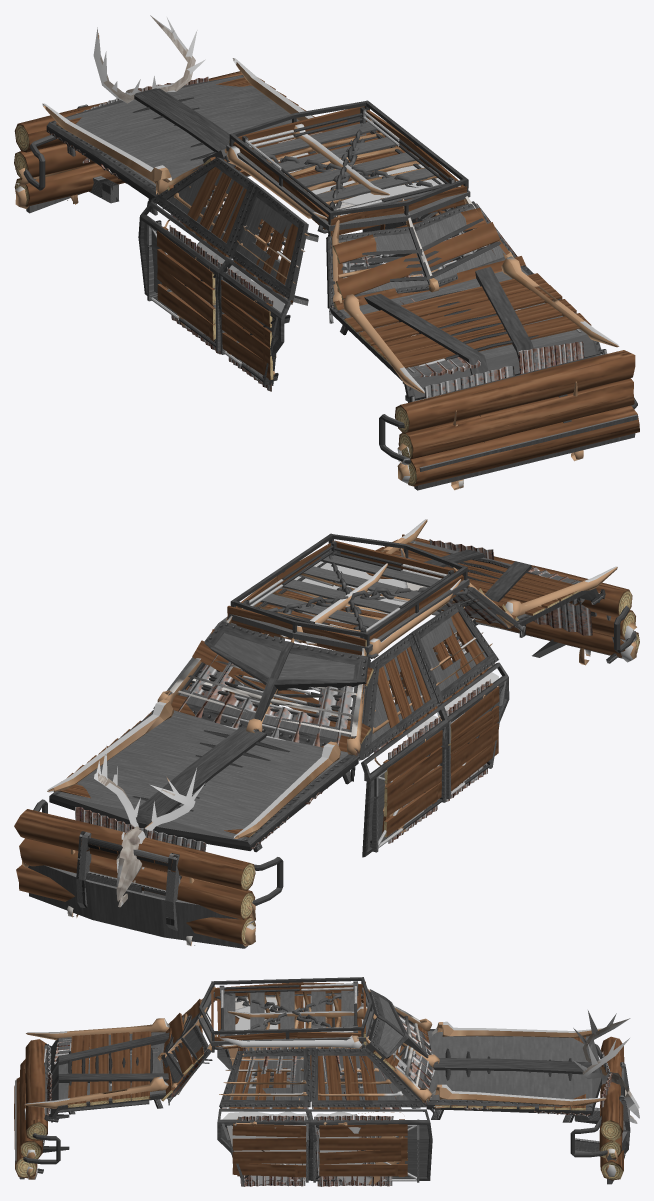
The model's file is CarNormal_Armour.fbx.
The picture shows the model from 3 angles, top to bottom: view 1: azimuth 30°, elevation 25°; view 2: azimuth 150°, elevation 25°; view 3: azimuth 270°, elevation 25°; orthographic projection. The views are drawn at different scales.
Visible parts, largest first — view 1: normal_wood_trunk_armor, normal_heavy_hood_armor, normal_heavy_trunk_armor, normal_heavy_roofrack, normal_heavy_rear_windshield_armor, normal_wood_rear_windshield_armor, normal_wood_roofrack, normal_wood_bullbar_armor, normal_heavy_rear_left_window_armor, normal_bone_roofrack, normal_wood_front_left_door_armor, normal_wood_rear_left_door_armor (+16 smaller); view 2: normal_heavy_hood_armor, normal_wood_bullbar_armor, normal_heavy_windshield_armor, normal_heavy_roofrack, normal_wood_trunk_armor, normal_heavy_bullbar_armor, normal_wood_roofrack, normal_wood_front_left_door_armor, normal_bone_bullbar_armor, normal_heavy_rear_left_window_armor, normal_bone_roofrack, normal_scrap_windshield_armor (+23 smaller); view 3: normal_heavy_hood_armor, normal_wood_trunk_armor, normal_heavy_roofrack, normal_heavy_trunk_armor, normal_wood_front_right_door_armor, normal_wood_rear_right_door_armor, normal_heavy_rear_right_window_armor, normal_heavy_front_right_window_armor, normal_bone_roofrack, normal_bone_hood_armor, normal_wood_roofrack, normal_heavy_windshield_armor (+31 smaller).
Boxes of the visible parts, x1,y1,x2,y2 form: normal_wood_trunk_armor: (344,273,639,486); normal_heavy_hood_armor: (46,75,312,202); normal_heavy_trunk_armor: (329,265,637,490); normal_heavy_roofrack: (226,100,470,236); normal_heavy_rear_windshield_armor: (326,201,515,308); normal_wood_rear_windshield_armor: (333,208,526,310); normal_wood_roofrack: (229,106,467,236); normal_wood_bullbar_armor: (14,71,242,206); normal_heavy_rear_left_window_armor: (228,185,308,300); normal_bone_roofrack: (227,117,444,219); normal_wood_front_left_door_armor: (157,226,215,341); normal_wood_rear_left_door_armor: (221,280,273,380); normal_heavy_hood_armor: (49,710,358,850); normal_wood_bullbar_armor: (14,809,255,944); normal_heavy_windshield_armor: (178,621,370,758); normal_heavy_roofrack: (227,533,469,655); normal_wood_trunk_armor: (375,534,639,657); normal_heavy_bullbar_armor: (28,799,283,948); normal_wood_roofrack: (227,540,463,655); normal_wood_front_left_door_armor: (382,730,442,837); normal_bone_bullbar_armor: (21,745,255,946); normal_heavy_rear_left_window_armor: (408,602,498,703); normal_bone_roofrack: (226,545,461,658); normal_scrap_windshield_armor: (168,654,364,755); normal_heavy_hood_armor: (426,1029,601,1115); normal_wood_trunk_armor: (14,1031,151,1178); normal_heavy_roofrack: (198,977,373,1052); normal_heavy_trunk_armor: (15,1032,173,1179); normal_wood_front_right_door_armor: (319,1119,407,1176); normal_wood_rear_right_door_armor: (232,1118,306,1177); normal_heavy_rear_right_window_armor: (219,1048,310,1107); normal_heavy_front_right_window_armor: (311,1048,426,1107); normal_bone_roofrack: (218,983,367,1048); normal_bone_hood_armor: (430,1021,606,1108); normal_wood_roofrack: (211,981,366,1048); normal_heavy_windshield_armor: (366,989,434,1105).
Bounding box in the file's own units: 0.958 × 0.7391 × 2.83.
